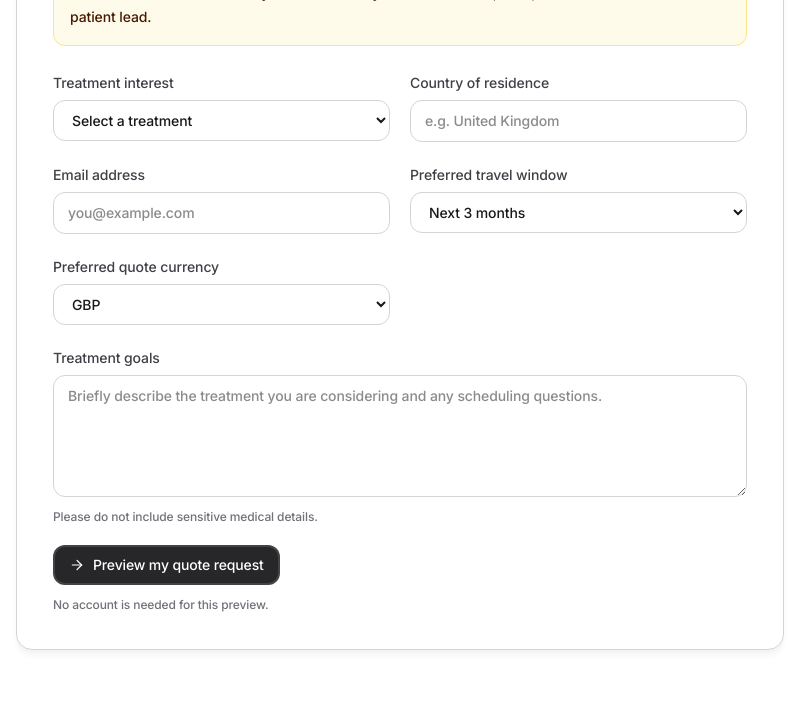
Test case: International › shows accessible validation before accepting a patient lead
(page scrolled)
Click the button "Preview my quote request": (166, 565) [53,545,280,585]
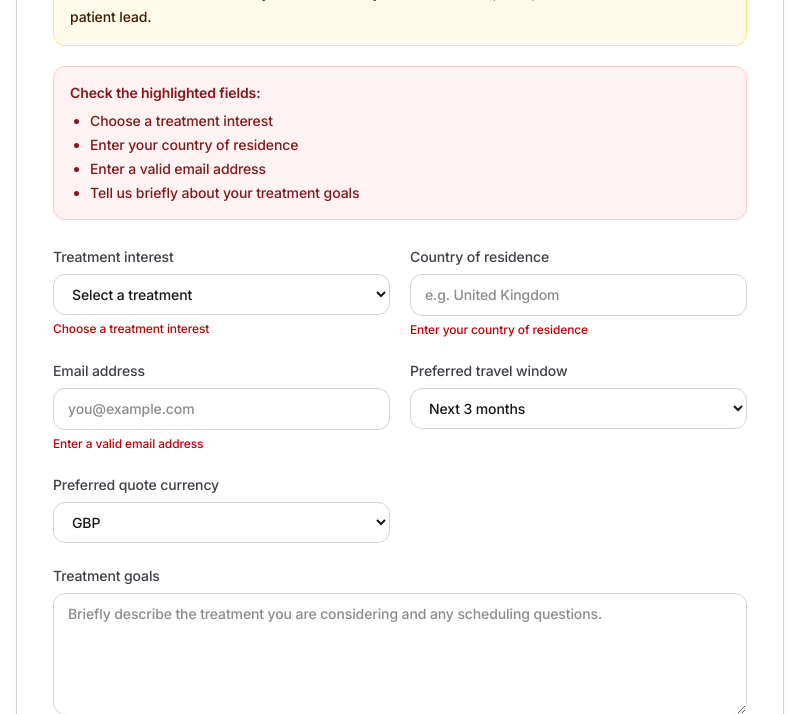
Check: the message shows "Choose a treatment interest", box [90,112,273,129]
Check: the message shows "Enter your country of residence", box [90,136,298,153]
Check: the message shows "Enter a valid email address", box [90,160,266,177]
